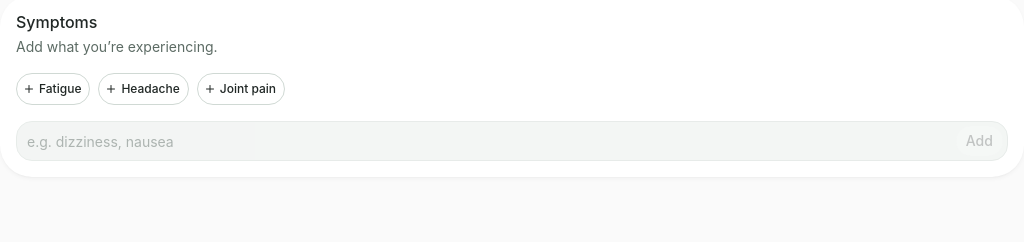
it: SymptomsCard › supports adding by button and removing symptoms without submitting again
This screenshot has width=1024, height=242.
Expected: the button "Add" is disabled, [955,125,1004,157]
Step 1. Type "headache, joint pain" into the field named "Add symptoms" → [486, 141], box [17,125,955,157]
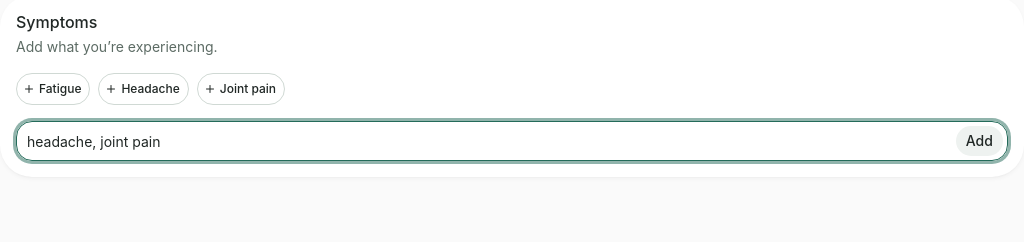
Step 2. Click the button "Add" → [979, 141], box [955,125,1004,157]
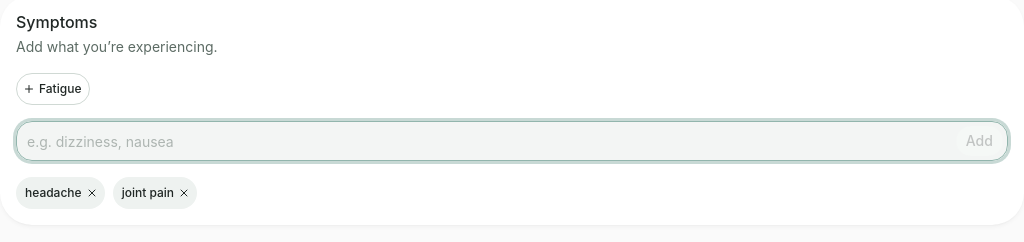
Step 3. Click the button with aria-label "Remove headache" → [60, 193], box [16,177,105,209]
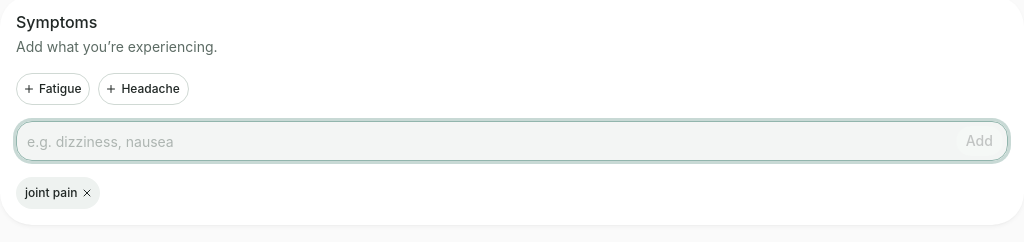
Now the button with aria-label "Remove joint pain" is shown, box [16,177,100,209]
Now the button with aria-label "Add headache" is shown, box [98,73,189,105]
